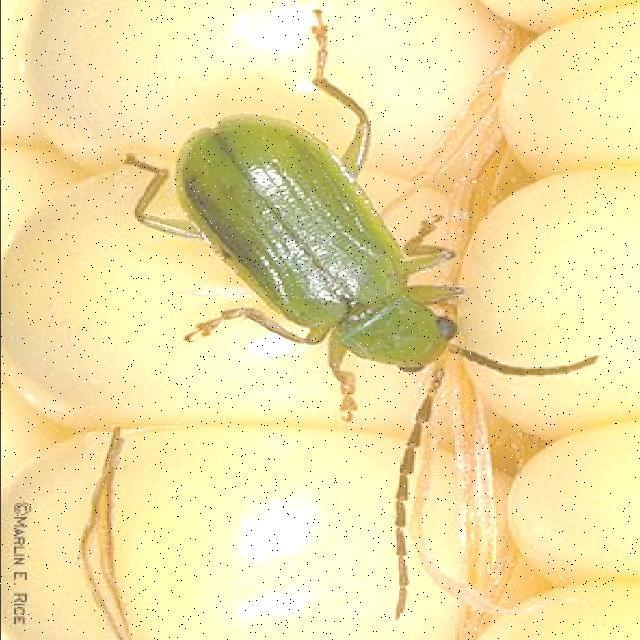gusano_gris: (121, 8, 599, 622)
